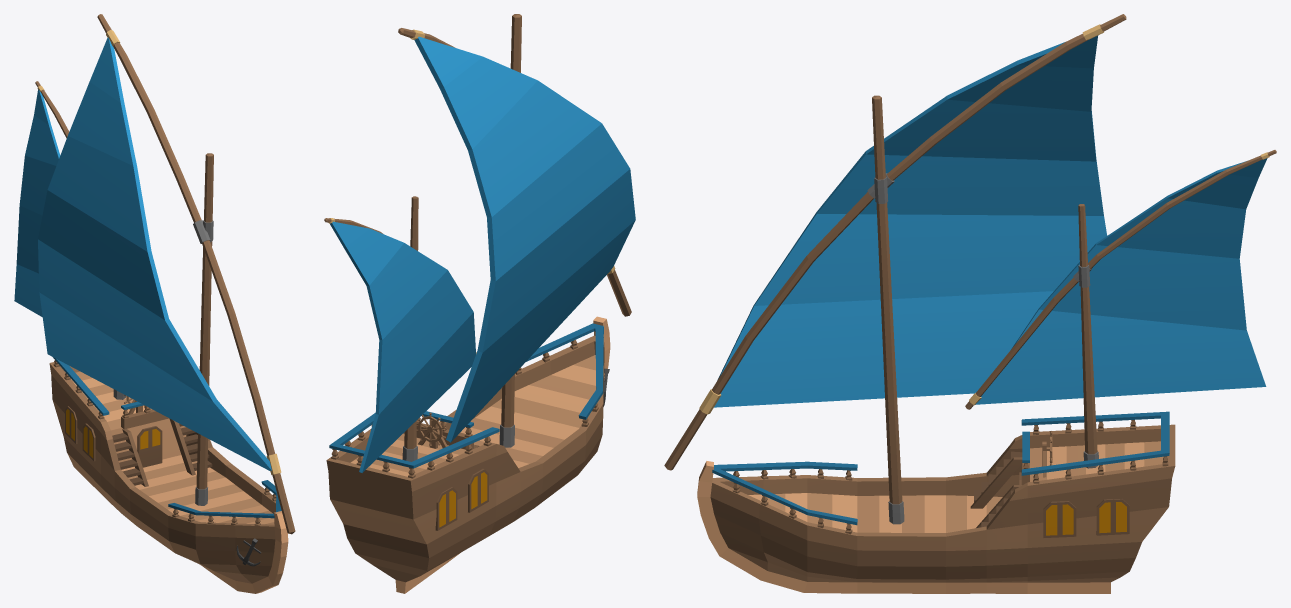
Rendered from ship-small-7.glb.
3 views of the same model, side by side, from view 1: azimuth 30°, elevation 25°; view 2: azimuth 150°, elevation 25°; view 3: azimuth 270°, elevation 25° (orthographic). The views are drawn at different scales.
Visible parts, largest first — view 1: ship small 7; view 2: ship small 7; view 3: ship small 7.
Boxes of the visible parts, left/top/right/bottom form: ship small 7: left=14, top=14, right=295, bottom=593; ship small 7: left=324, top=14, right=635, bottom=593; ship small 7: left=664, top=14, right=1276, bottom=593.
Bounding box in the file's own units: 7.29 × 26.18 × 25.3.
1 material, 1 textured.
